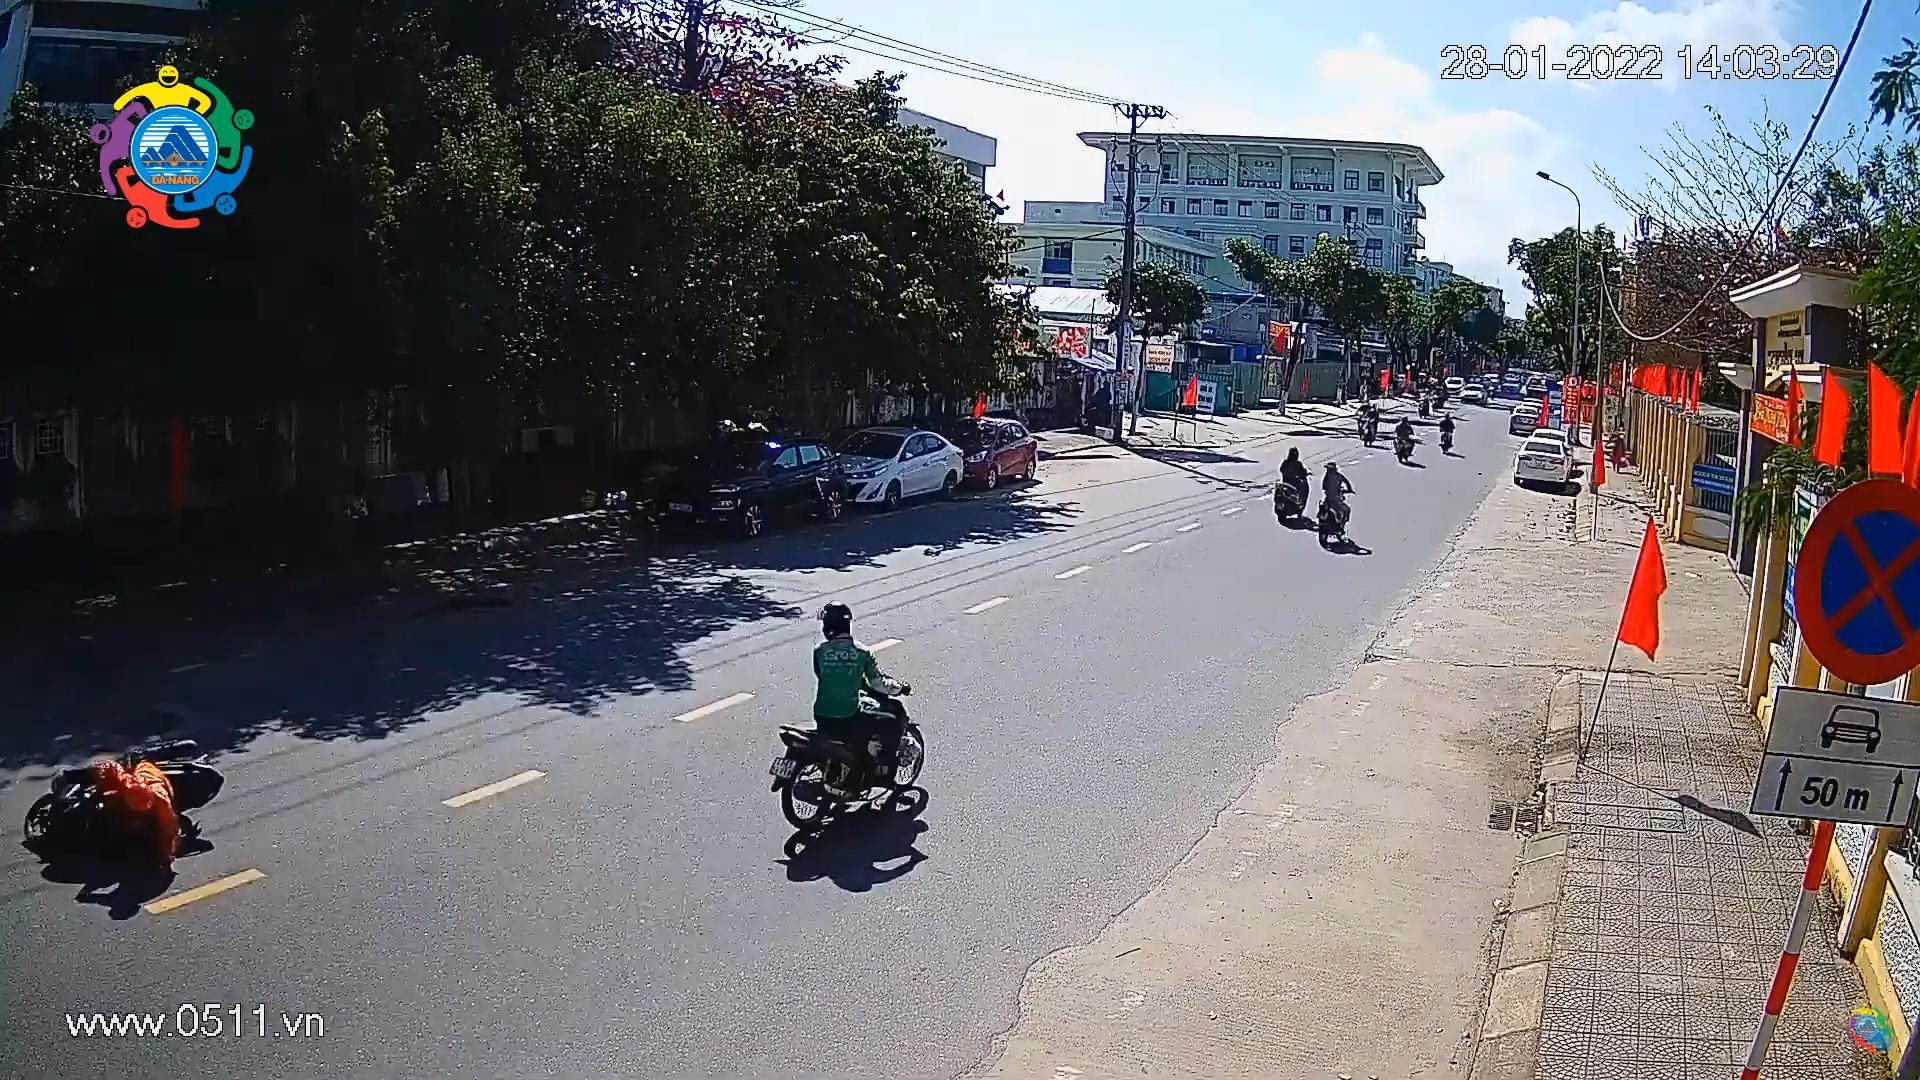accident: (18, 708, 257, 901)
car: (621, 421, 840, 542), (811, 407, 960, 508), (938, 407, 1043, 500), (1501, 418, 1581, 496)
motorcycle: (742, 585, 971, 860), (1304, 452, 1364, 553), (1263, 440, 1312, 534)
